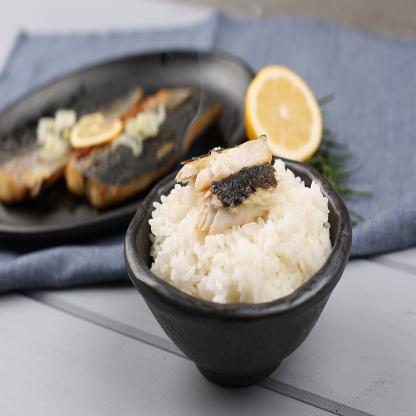Peixe: (10, 64, 212, 221), (188, 122, 282, 225)
